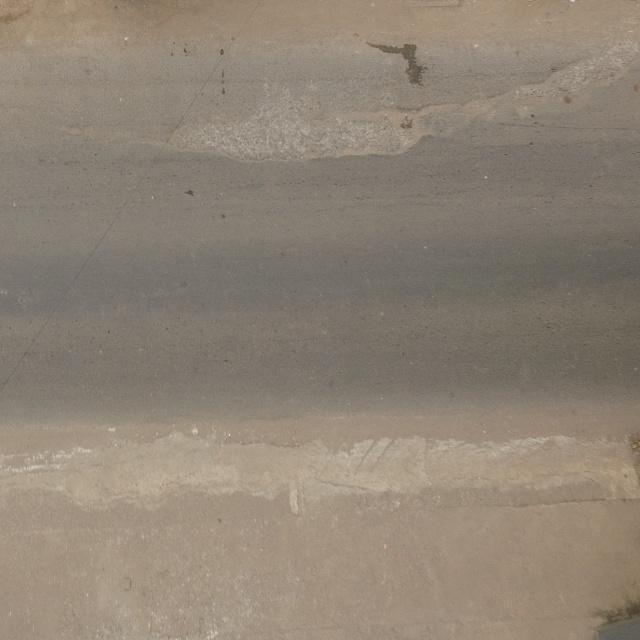GRIETA: (0, 40, 639, 161), (0, 432, 639, 514)
